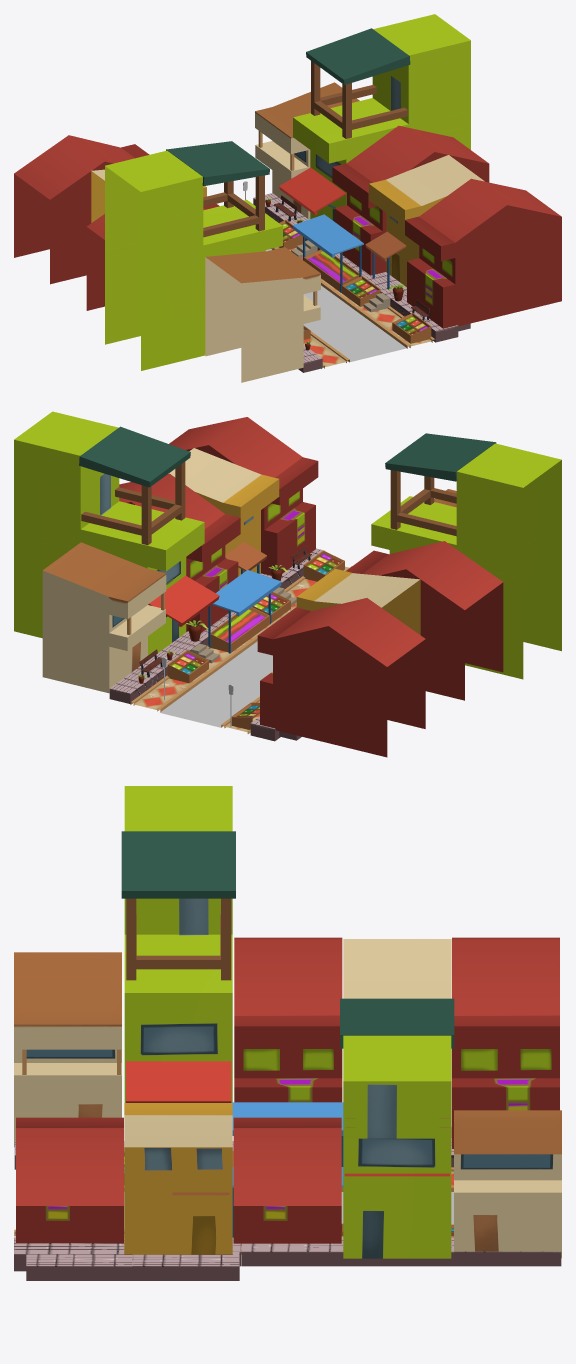
The model's file is nha2.fbx.
The picture shows the model from 3 angles, top to bottom: view 1: azimuth 30°, elevation 25°; view 2: azimuth 150°, elevation 25°; view 3: azimuth 270°, elevation 25°; orthographic projection. The views are drawn at different scales.
Parts seen in each view (by area): view 1: pCylinder104, pCylinder102, pPlane70; view 2: pCylinder104, pCylinder102, pPlane70; view 3: pCylinder104, pCylinder102.
Boxes of the visible parts, box(x1,y1,x2,y2) form: pCylinder104: box(243, 14, 561, 348); pCylinder102: box(14, 135, 349, 382); pPlane70: box(265, 249, 406, 361); pCylinder104: box(14, 411, 351, 711); pCylinder102: box(221, 433, 561, 757); pPlane70: box(160, 641, 272, 727); pCylinder104: box(14, 998, 561, 1280); pCylinder102: box(14, 786, 559, 1191).
Size of the model in its own units: 167 by 74.03 by 131.
